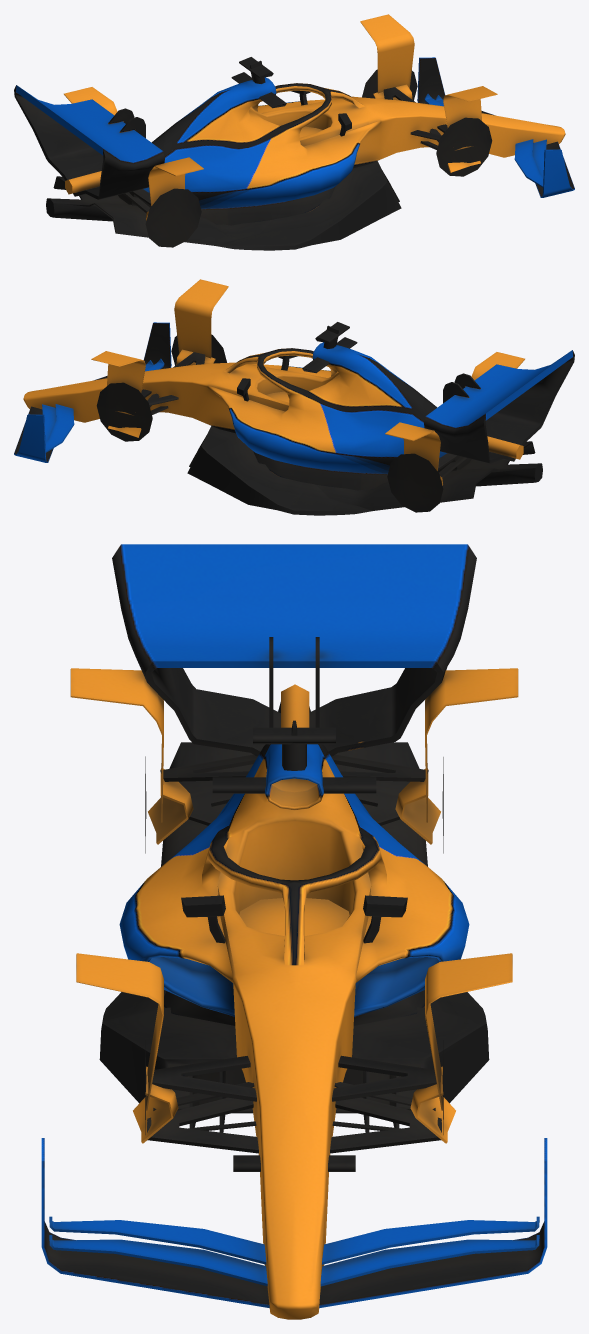
The model's file is f1_car_13.dae.
3 renders of one model, top to bottom at view 1: azimuth 30°, elevation 25°; view 2: azimuth 150°, elevation 25°; view 3: azimuth 270°, elevation 25°, orthographic. The views are drawn at different scales.
Visible parts, largest first — view 1: F1_Car; view 2: F1_Car; view 3: F1_Car.
Boxes of the visible parts, box(x1,y1,x2,y2) form: F1_Car: box(14, 14, 574, 250); F1_Car: box(14, 279, 574, 515); F1_Car: box(41, 544, 547, 1319).
Bounding box in the file's own units: 34.44 × 14.7 × 9.69.
1 material, 1 textured.
